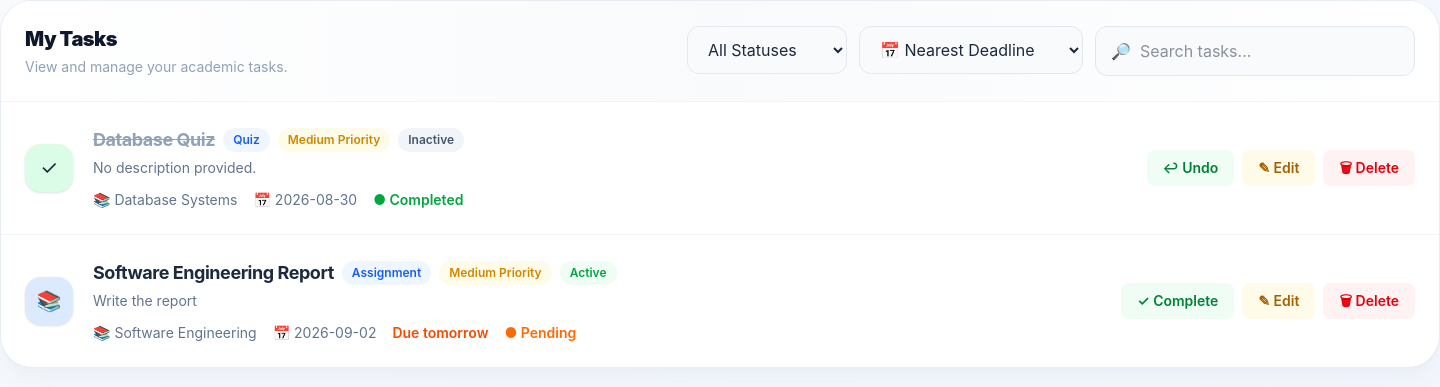
Taskly form and task list components › filters the task list by Inactive status
Step 1. Select "Inactive" in the dropdown with id "task-status-filter" → (767, 50), box [687,26,847,74]
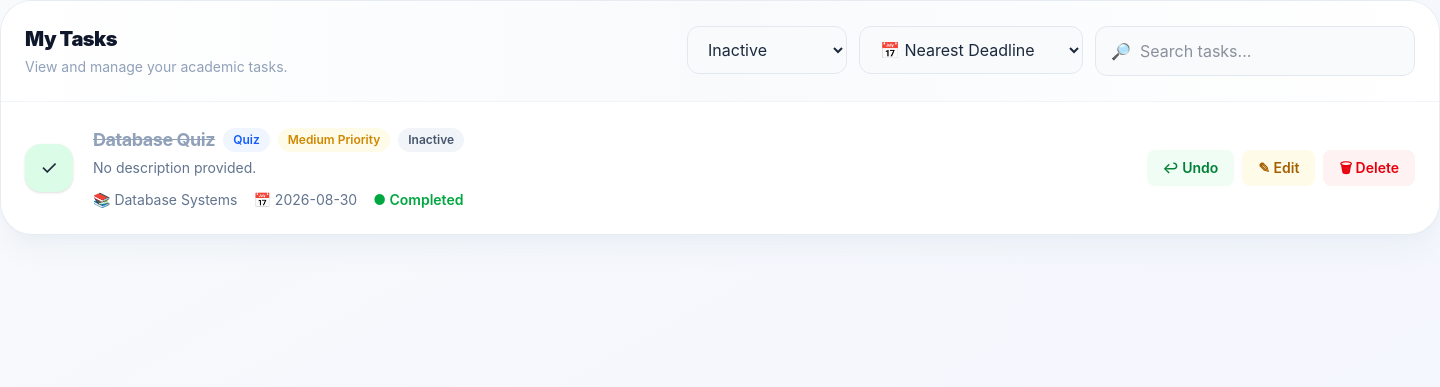
Expected: the text "Database Quiz" is shown, [93,126,215,154]
Now the text "Software Engineering Report" is gone
